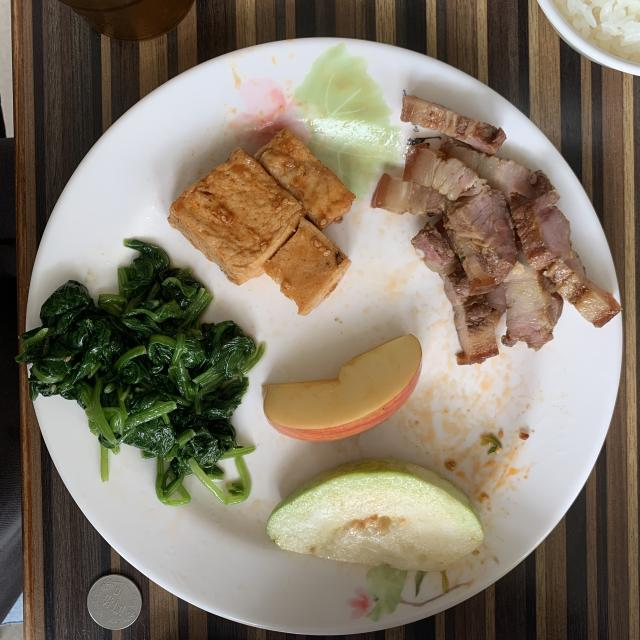apple -sliced-: (264, 334, 421, 441)
coin: (88, 574, 141, 630)
creamy tofu: (169, 129, 355, 314)
grilled pork: (372, 96, 621, 364)
guava -sliced-: (268, 459, 484, 571)
mustard greens: (16, 240, 261, 504)
